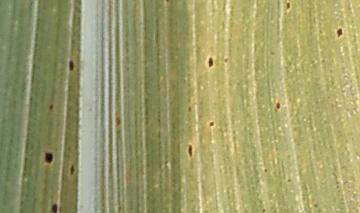tarspot: (43, 150, 54, 167), (66, 58, 77, 73), (206, 55, 215, 71), (186, 142, 194, 159), (67, 163, 76, 178), (112, 116, 122, 129), (283, 1, 292, 13), (50, 201, 58, 213), (335, 27, 343, 38), (274, 100, 282, 111), (319, 56, 327, 65), (222, 55, 230, 63), (208, 119, 215, 128), (186, 105, 193, 114), (310, 57, 316, 66), (48, 103, 55, 110), (260, 206, 267, 213), (268, 50, 275, 57), (312, 201, 318, 209), (262, 167, 269, 173), (286, 177, 292, 184), (164, 1, 170, 5)
